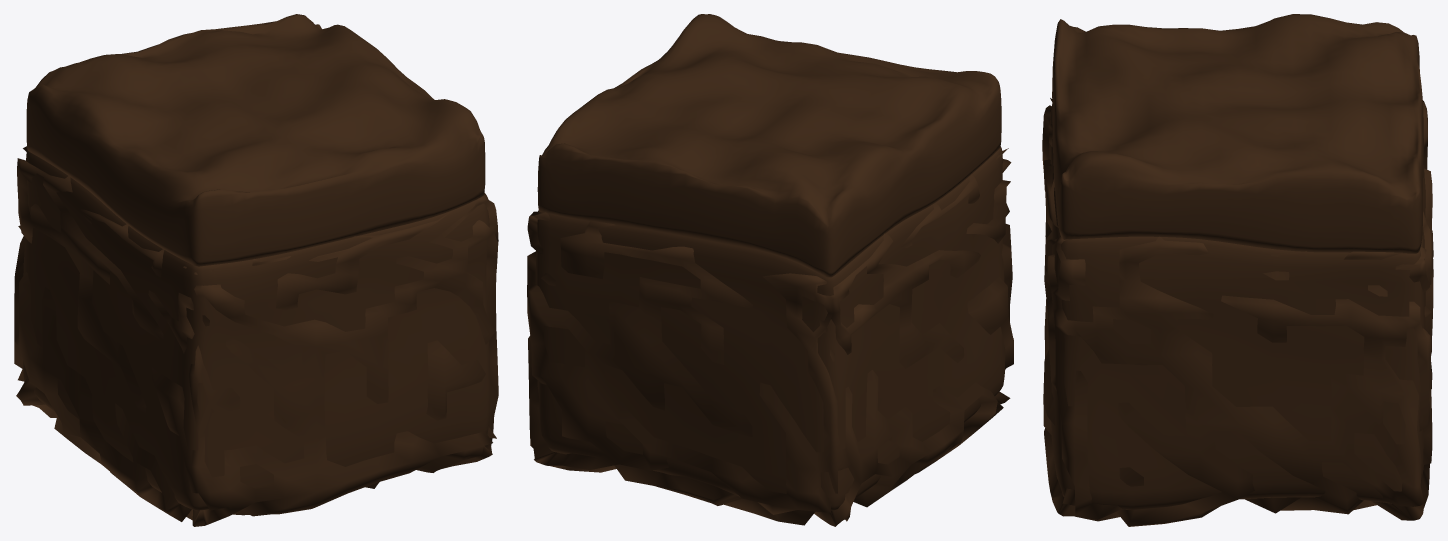
The model's file is cube_pierre_terre.fbx.
The picture shows the model from 3 angles, left to right: view 1: azimuth 30°, elevation 25°; view 2: azimuth 150°, elevation 25°; view 3: azimuth 270°, elevation 25°; orthographic projection. The views are drawn at different scales.
Visible parts, largest first — view 1: Cube.001, Cube, Cube.002; view 2: Cube.001, Cube, Cube.002; view 3: Cube.001, Cube, Cube.002.
Part boxes in pixels (box(x1,y1,x2,y2)): Cube.001: box(26, 14, 485, 266); Cube: box(23, 150, 490, 510); Cube.002: box(14, 146, 498, 526); Cube.001: box(537, 14, 1001, 277); Cube: box(535, 146, 1005, 510); Cube.002: box(527, 148, 1013, 526); Cube.001: box(1052, 14, 1423, 253); Cube: box(1049, 104, 1425, 509); Cube.002: box(1042, 98, 1433, 526).
Size of the model in its own units: 210 by 222 by 211.
